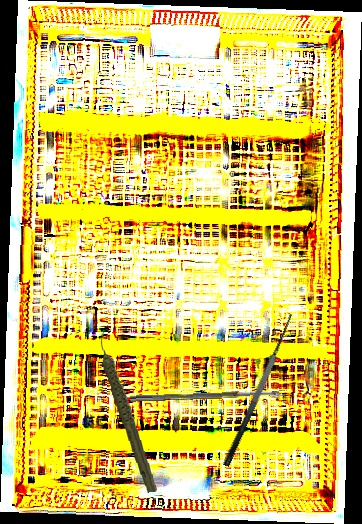Handpiece: (97, 328, 159, 496)
Spatula Surgical: (209, 308, 300, 468)
Surgical Spoon: (129, 390, 286, 403)
